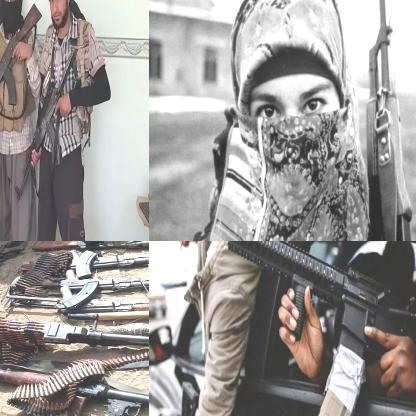rifle: (173, 241, 415, 415), (355, 0, 415, 240), (13, 49, 78, 201), (0, 350, 148, 415), (0, 316, 148, 365), (0, 0, 42, 138), (0, 292, 148, 331), (58, 272, 148, 317), (0, 241, 30, 324), (31, 241, 148, 251)
